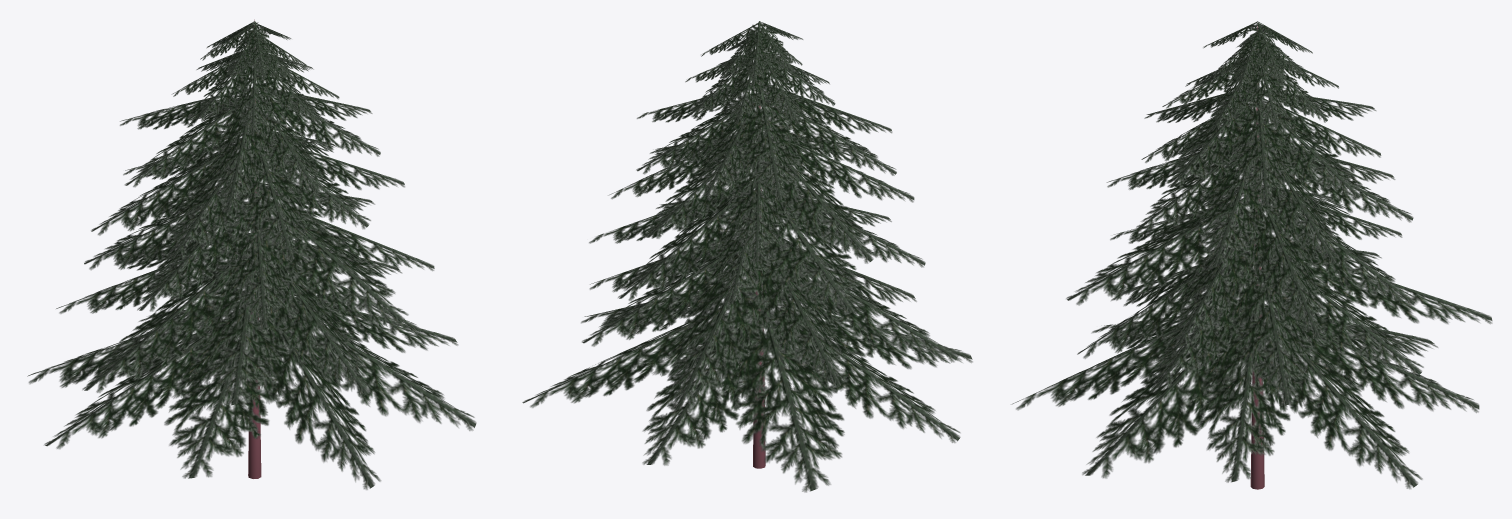
Rendered from treepine.glb.
3 renders of one model, left to right at view 1: azimuth 30°, elevation 25°; view 2: azimuth 150°, elevation 25°; view 3: azimuth 270°, elevation 25°, orthographic. The views are drawn at different scales.
Visible parts, largest first — view 1: Branch, Trunk; view 2: Branch, Trunk; view 3: Branch, Trunk.
Part boxes in pixels (x1=…): Branch: x1=27, y1=21, x2=476, y2=489; Trunk: x1=248, y1=19, x2=261, y2=478; Branch: x1=522, y1=21, x2=972, y2=492; Trunk: x1=753, y1=106, x2=765, y2=468; Branch: x1=1011, y1=21, x2=1492, y2=489; Trunk: x1=1250, y1=26, x2=1264, y2=489.
Size of the model in its own units: 15.73 by 17.39 by 16.24.
Materials: 2 (1 with a texture image).
